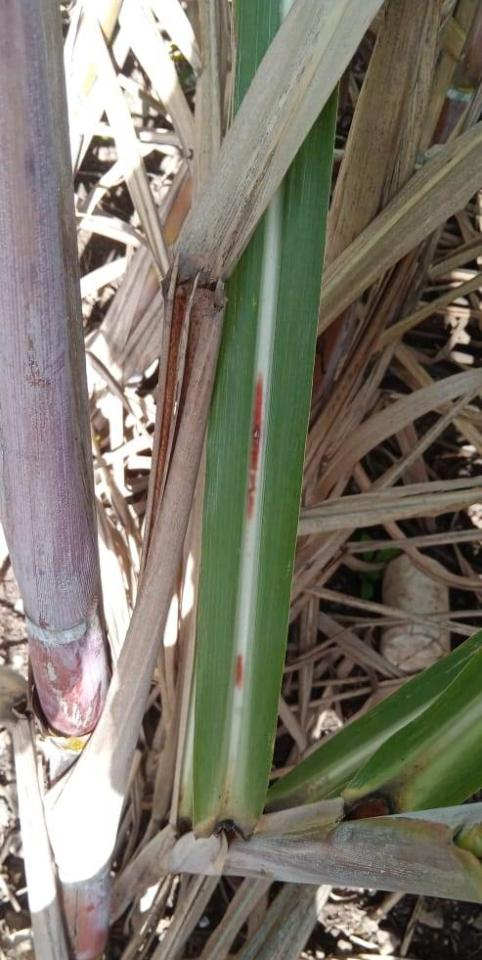RedRot: (244, 374, 265, 525), (234, 649, 246, 690)
